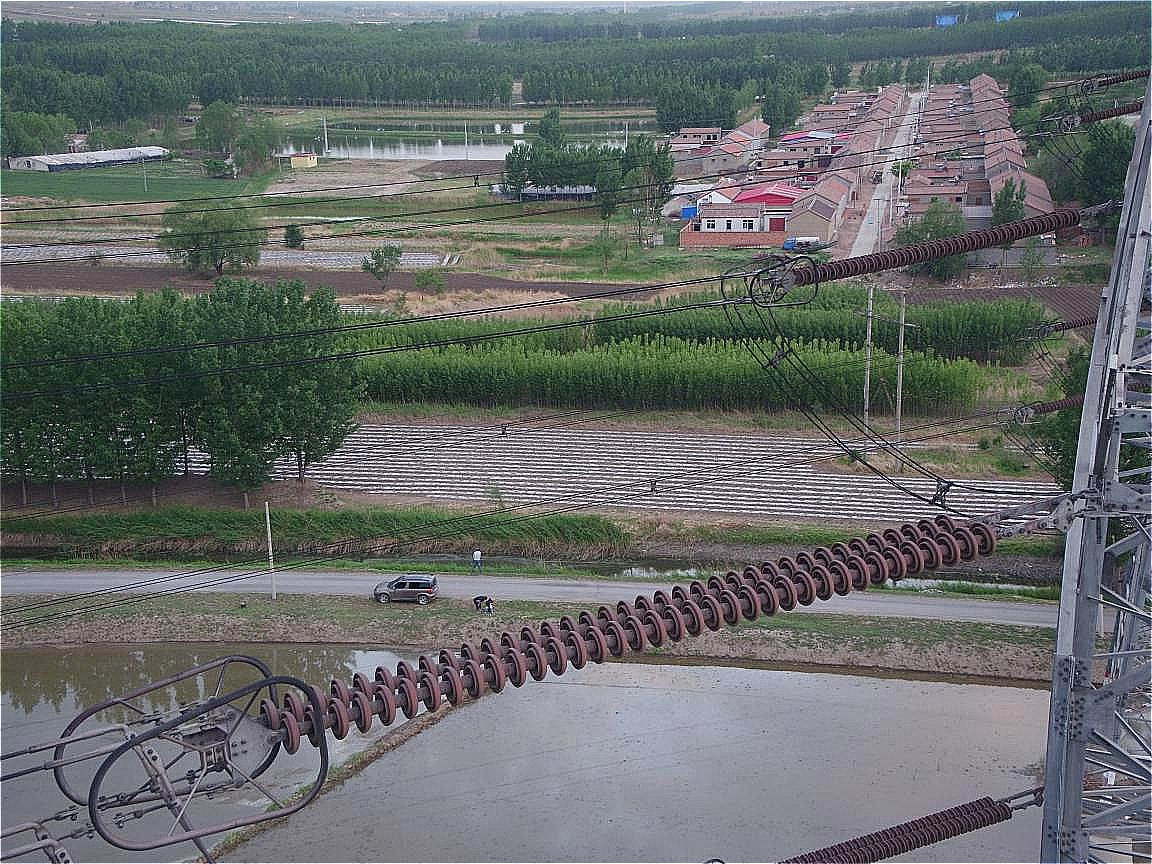insultor1: (237, 481, 1027, 774), (788, 198, 1089, 296)
